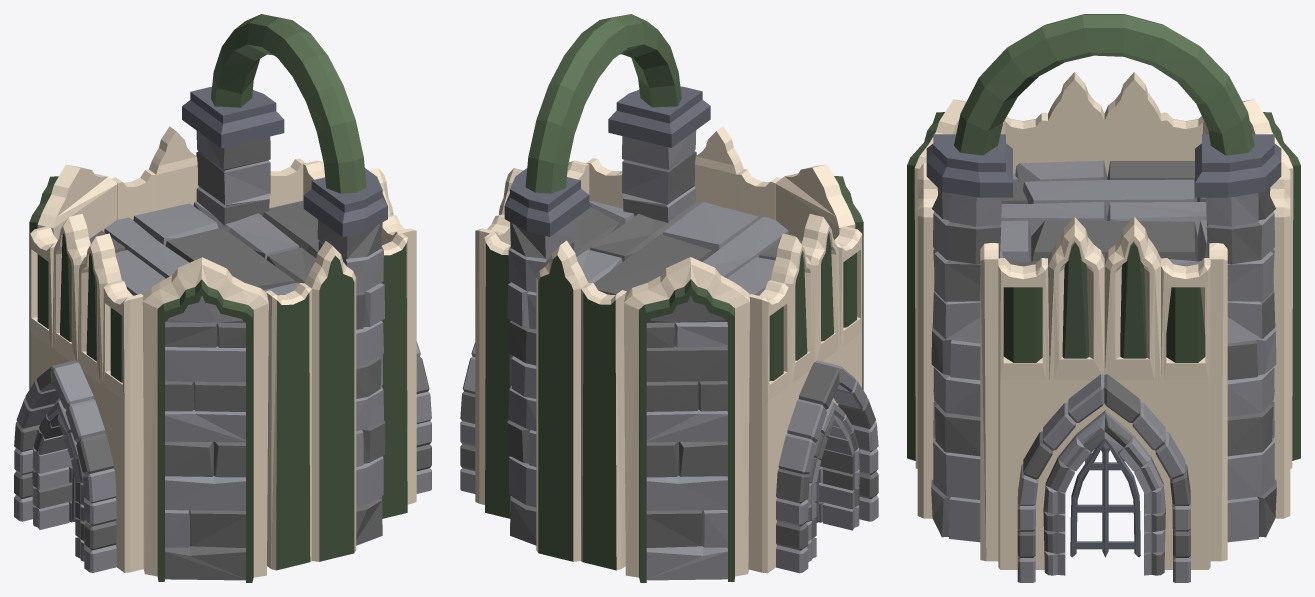
Rendered from _TOWER_2.fbx.
The picture shows the model from 3 angles, left to right: view 1: azimuth 30°, elevation 25°; view 2: azimuth 150°, elevation 25°; view 3: azimuth 270°, elevation 25°; orthographic projection. The views are drawn at different scales.
Visible parts, largest first — view 1: TOWER_2; view 2: TOWER_2; view 3: TOWER_2.
Part boxes in pixels (x1,y1,x2,y2): TOWER_2: (14, 14, 431, 582); TOWER_2: (460, 14, 878, 582); TOWER_2: (907, 14, 1300, 582).
Size of the model in its own units: 966 by 1249 by 872.
